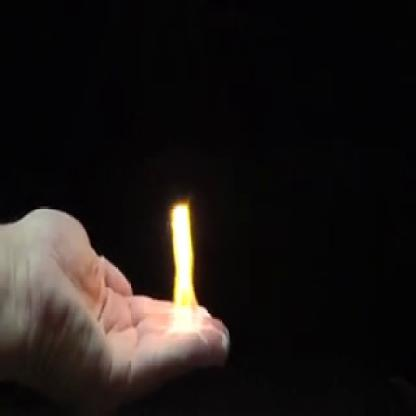fire: (168, 195, 204, 346)
